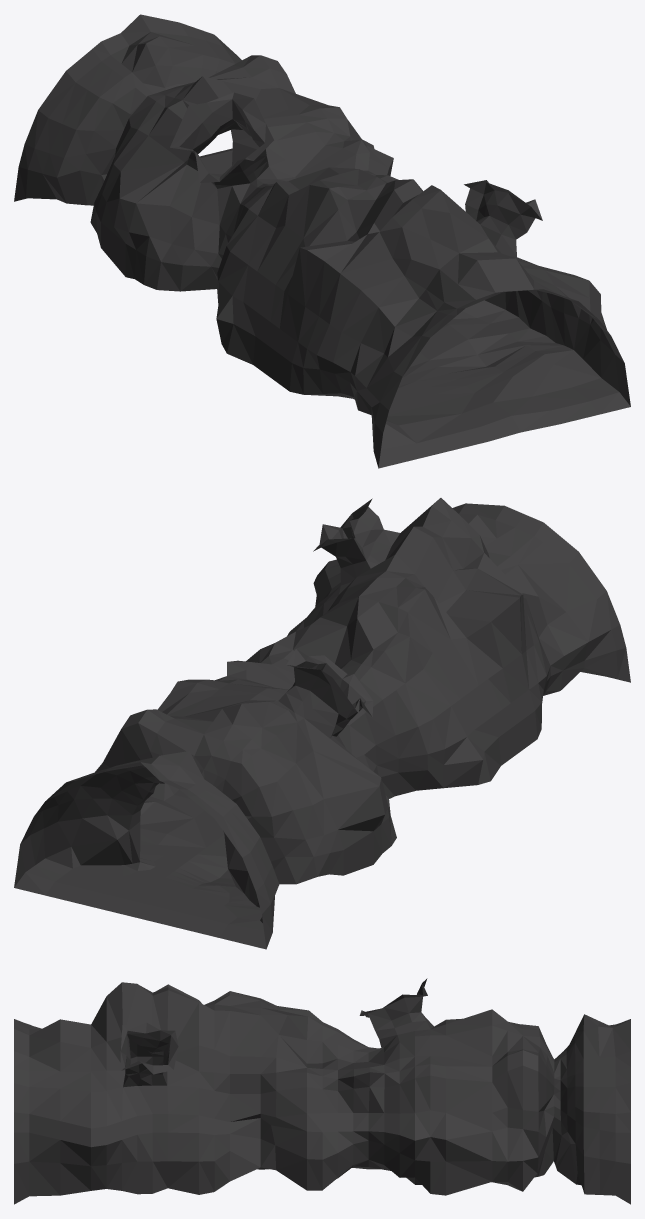
Rendered from Cave_4.fbx.
The picture shows the model from 3 angles, top to bottom: view 1: azimuth 30°, elevation 25°; view 2: azimuth 150°, elevation 25°; view 3: azimuth 270°, elevation 25°; orthographic projection. The views are drawn at different scales.
Parts seen in each view (by area): view 1: polySurface1217; view 2: polySurface1217; view 3: polySurface1217.
Part boxes in pixels (x1,y1,x2,y2): polySurface1217: (14,14,630,468); polySurface1217: (14,498,630,949); polySurface1217: (14,978,630,1204).
Bounding box in the file's own units: 8.79 × 6.16 × 20.
